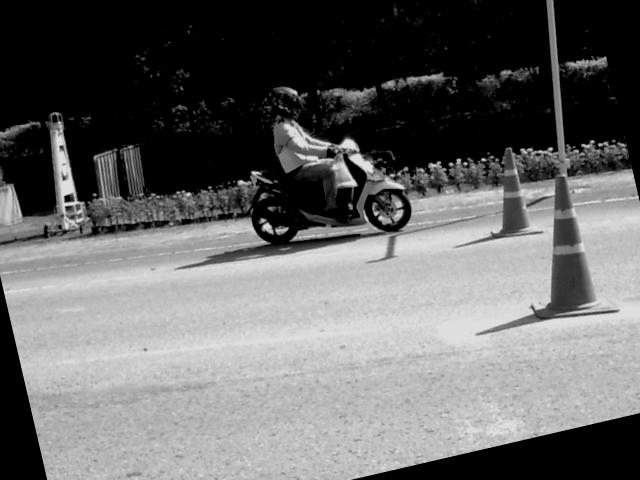helmet: (266, 82, 300, 114)
motor: (247, 139, 410, 243)
person: (270, 86, 345, 220)
